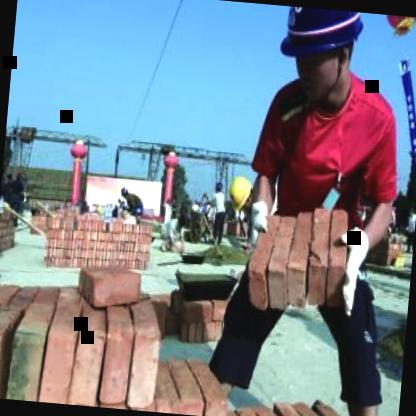helmet: (271, 5, 368, 114), (224, 169, 256, 213)
